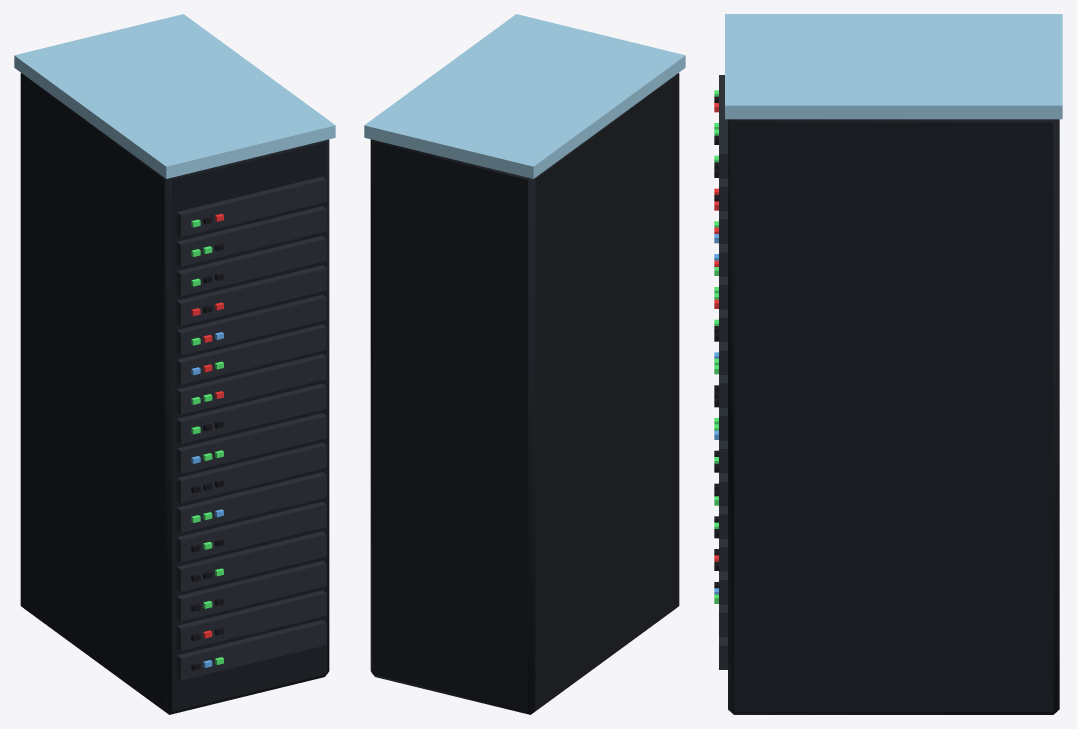
Rendered from server_rack.glb.
3 views of the same model, side by side, from view 1: azimuth 30°, elevation 25°; view 2: azimuth 150°, elevation 25°; view 3: azimuth 270°, elevation 25° (orthographic). The views are drawn at different scales.
Parts seen in each view (by area): view 1: server_rack; view 2: server_rack; view 3: server_rack.
Part boxes in pixels (x1,y1,x2,y2): server_rack: (14,14,335,714); server_rack: (364,14,685,714); server_rack: (714,14,1062,714).
Size of the model in its own units: 0.72 by 2.25 by 1.15.
